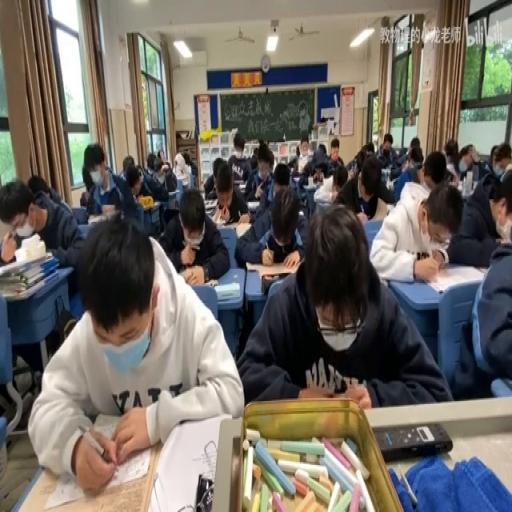calculator: (425, 263, 483, 292), (245, 260, 298, 283), (86, 206, 118, 224), (214, 216, 246, 232), (214, 282, 240, 300), (202, 196, 217, 209), (178, 174, 190, 186), (148, 199, 161, 208), (246, 201, 260, 209), (476, 265, 489, 273), (167, 189, 178, 198), (238, 180, 246, 190), (292, 171, 302, 179)
paper: (30, 215, 242, 492), (236, 202, 450, 410), (1, 175, 83, 282), (0, 293, 40, 506), (158, 183, 230, 283), (447, 161, 512, 266), (235, 170, 307, 264), (81, 140, 144, 228), (334, 153, 394, 222), (390, 145, 424, 199), (297, 139, 336, 185), (226, 128, 252, 183), (450, 141, 478, 183), (421, 149, 447, 192), (202, 154, 226, 199), (150, 154, 176, 189), (376, 132, 398, 166), (256, 141, 274, 172), (27, 175, 49, 199), (78, 178, 94, 210), (272, 161, 290, 189), (350, 148, 366, 176), (286, 145, 300, 171), (126, 170, 140, 194), (406, 136, 420, 158), (335, 165, 347, 188), (122, 154, 134, 172), (489, 144, 498, 168), (248, 150, 258, 170), (146, 152, 155, 171), (363, 141, 374, 156), (299, 138, 309, 154), (181, 151, 190, 165), (318, 144, 326, 155), (157, 150, 163, 164), (336, 155, 342, 165), (348, 169, 354, 179)
person: (374, 422, 451, 461), (194, 471, 214, 509)
